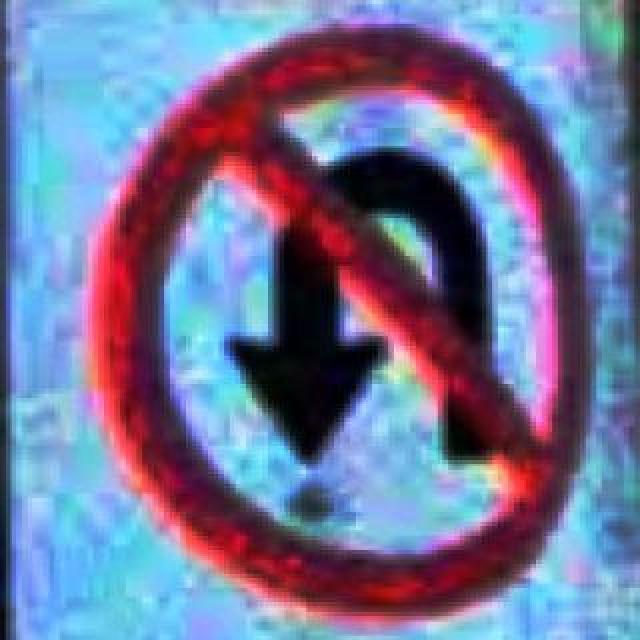no u turn: (72, 20, 596, 622)
